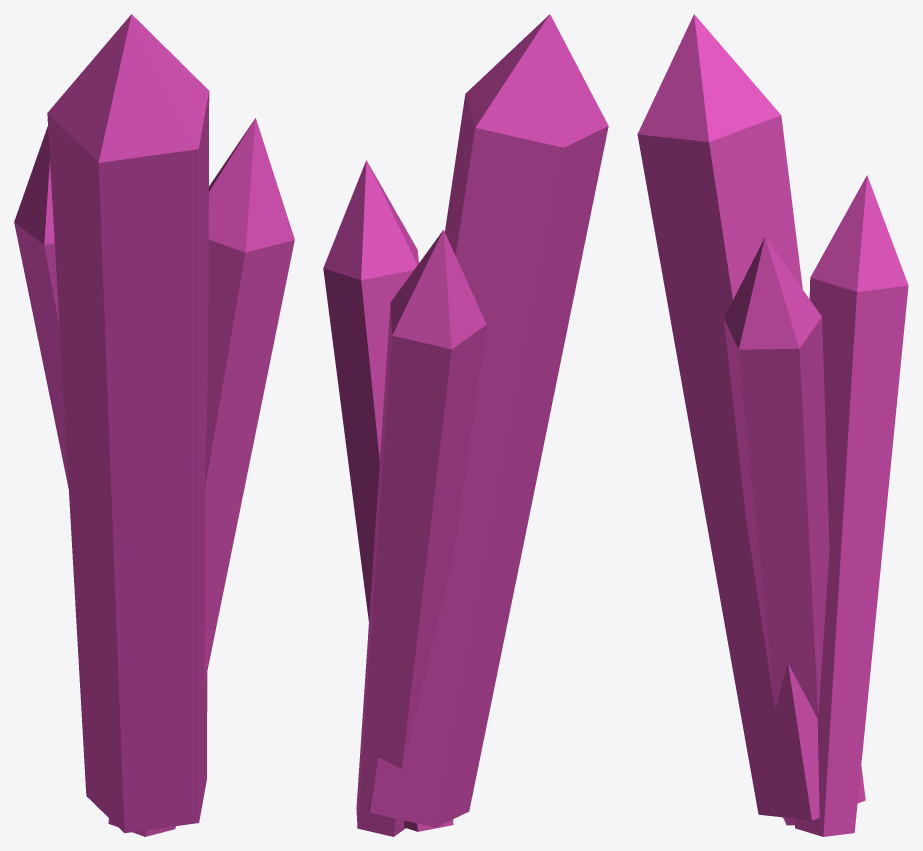
The model's file is small_crystals_3_1.fbx.
3 renders of one model, left to right at view 1: azimuth 30°, elevation 25°; view 2: azimuth 150°, elevation 25°; view 3: azimuth 270°, elevation 25°, orthographic. The views are drawn at different scales.
Parts seen in each view (by area): view 1: small crystals.021; view 2: small crystals.021; view 3: small crystals.021.
Part boxes in pixels (x1,y1,x2,y2): small crystals.021: [14, 14, 294, 836]; small crystals.021: [323, 14, 608, 836]; small crystals.021: [637, 14, 908, 836].
Size of the model in its own units: 85.56 by 295 by 94.14.
